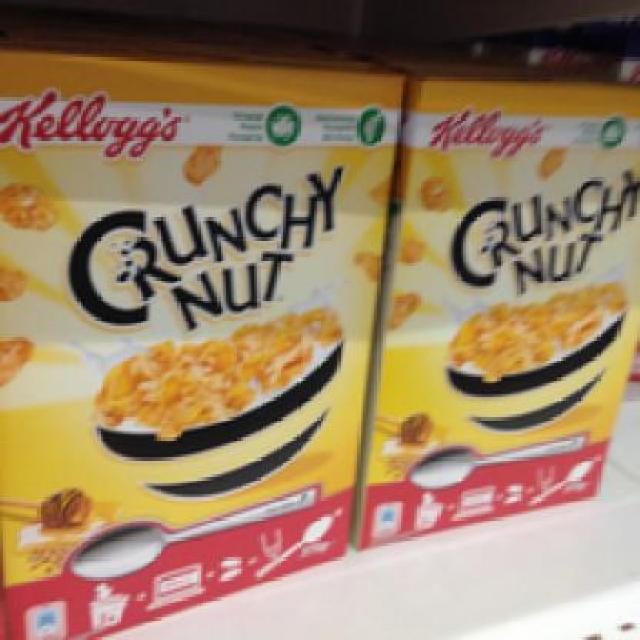Cereal: (0, 46, 403, 592), (360, 48, 637, 544)
